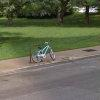Bicycle: (28, 40, 56, 65)
